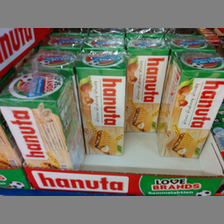chocolate: (1, 74, 85, 172), (157, 50, 224, 159), (77, 51, 123, 158), (124, 38, 165, 135)
